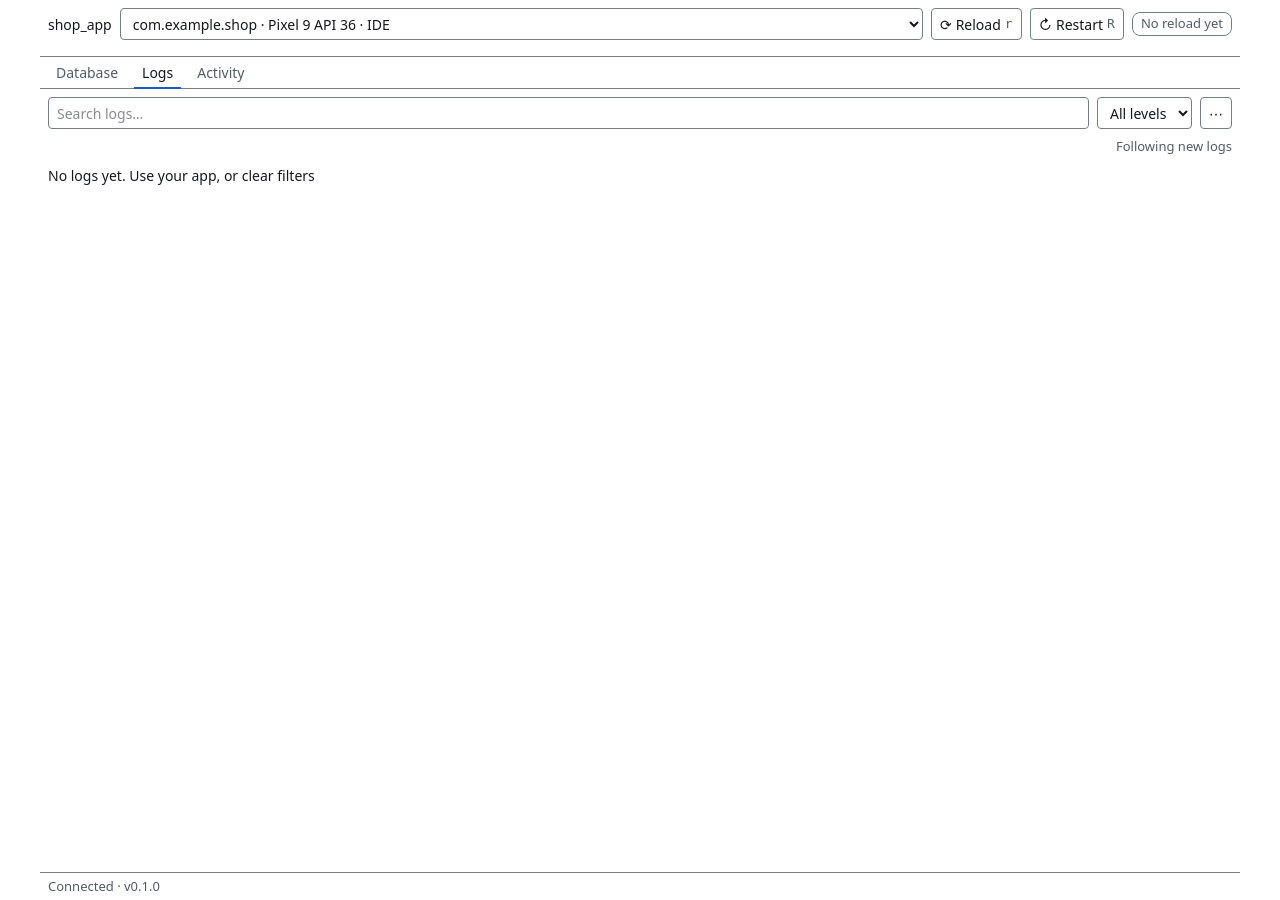
Test: App picker › Success: the picker shows the new app once attached
The width and height of the screenshot is (1280, 900).
Check: the text "shop_app" is shown, box [48,14,112,34]
Select "com.example.admin · Pixel 9 API 36 · terminal" in the dropdown named "App" at (521, 24), box [120,8,923,40]
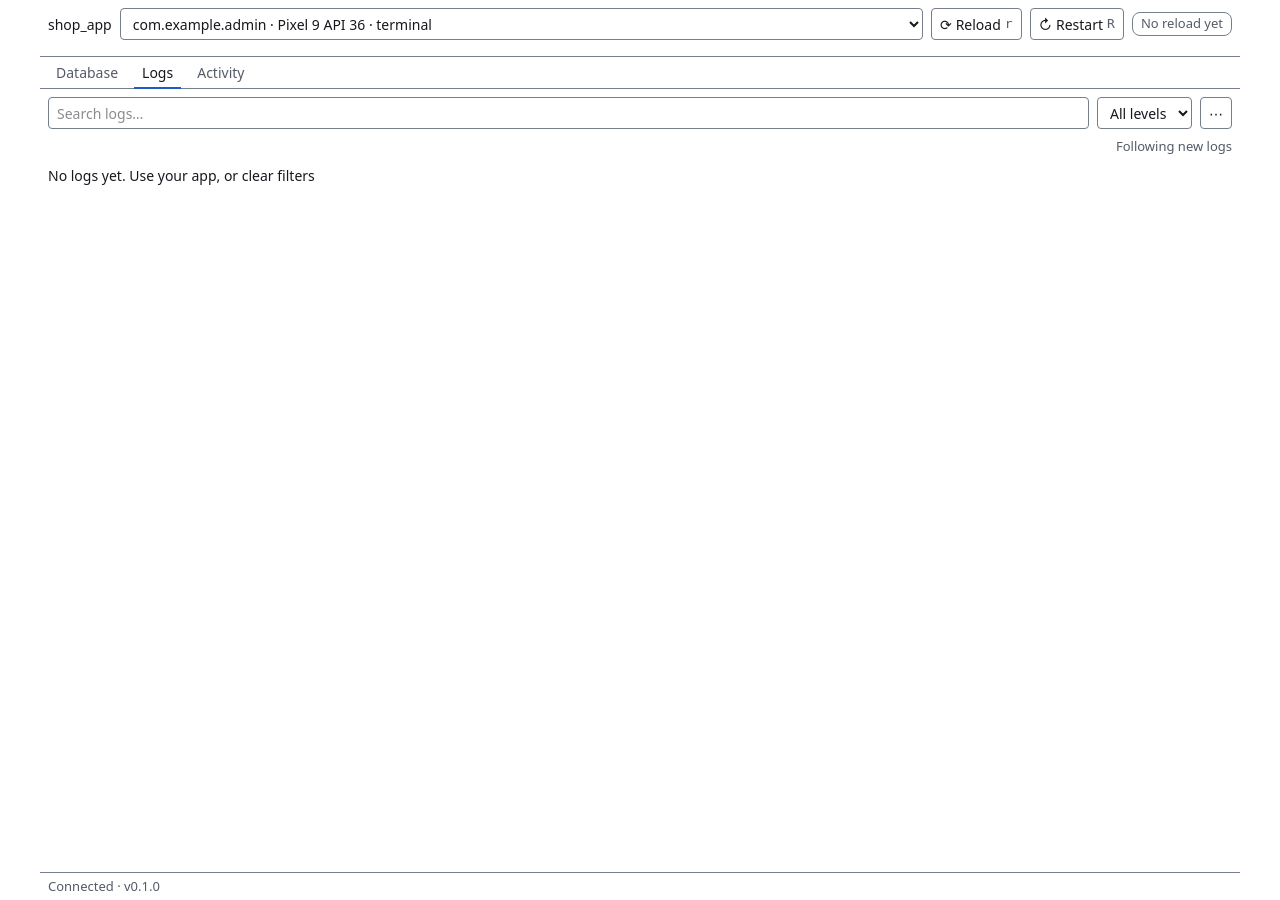
Click the tab "Activity" at (221, 73), box [189,57,252,89]
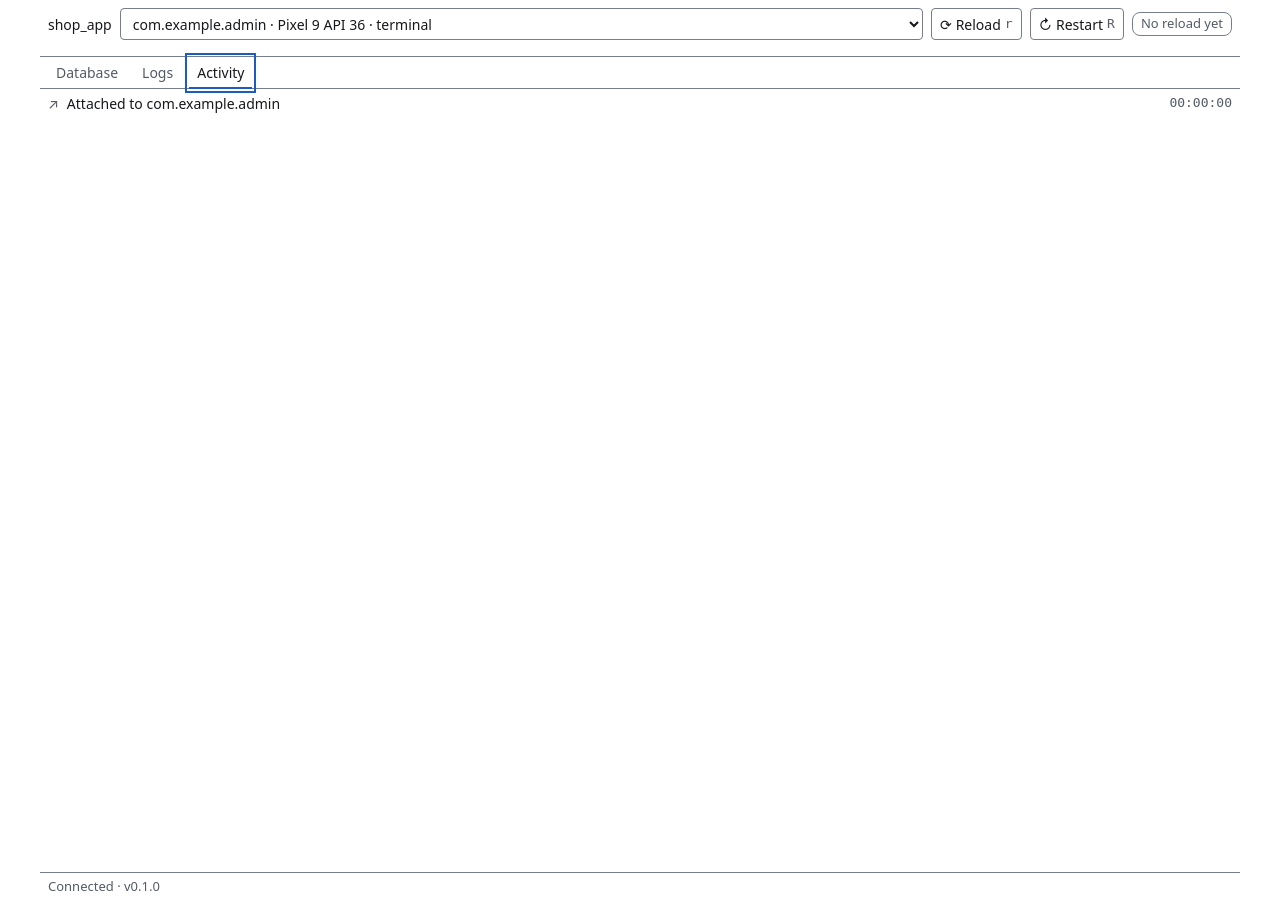
Check: the text "Attached to com.example.admin" is shown, box [67,94,280,113]
